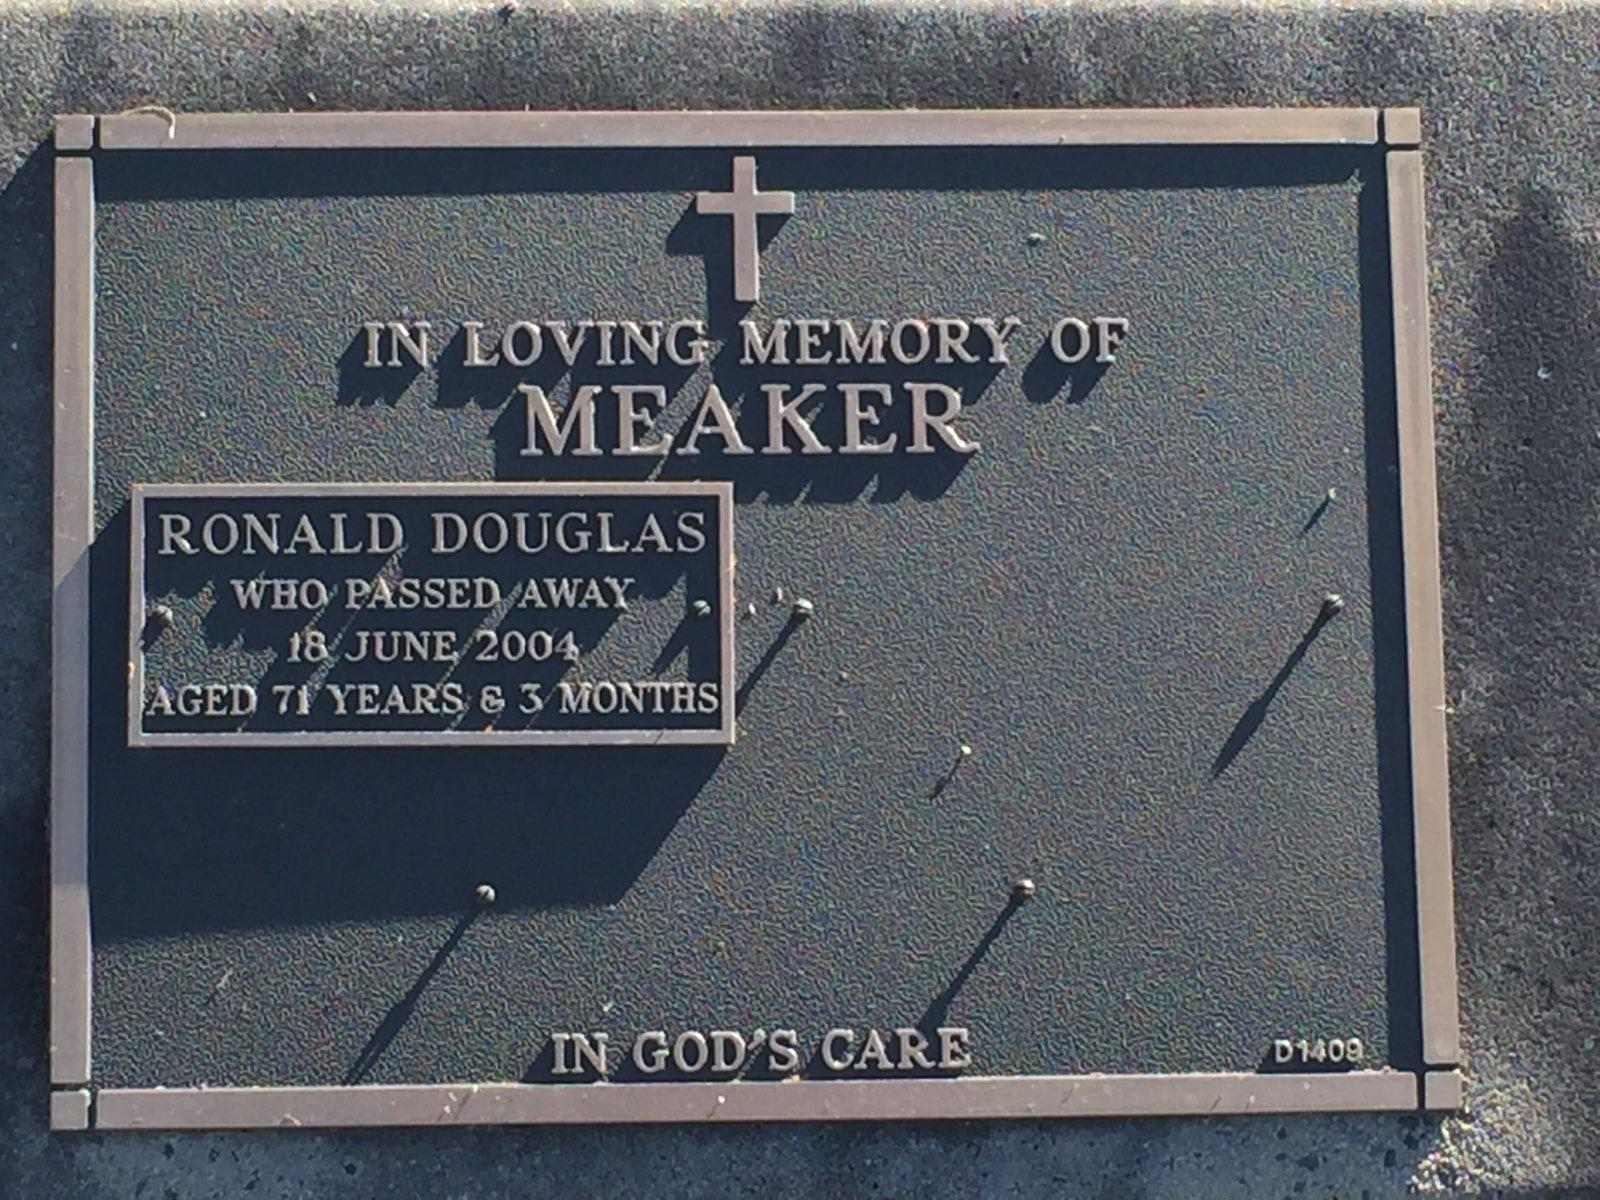flat: (40, 8, 1480, 1163)
